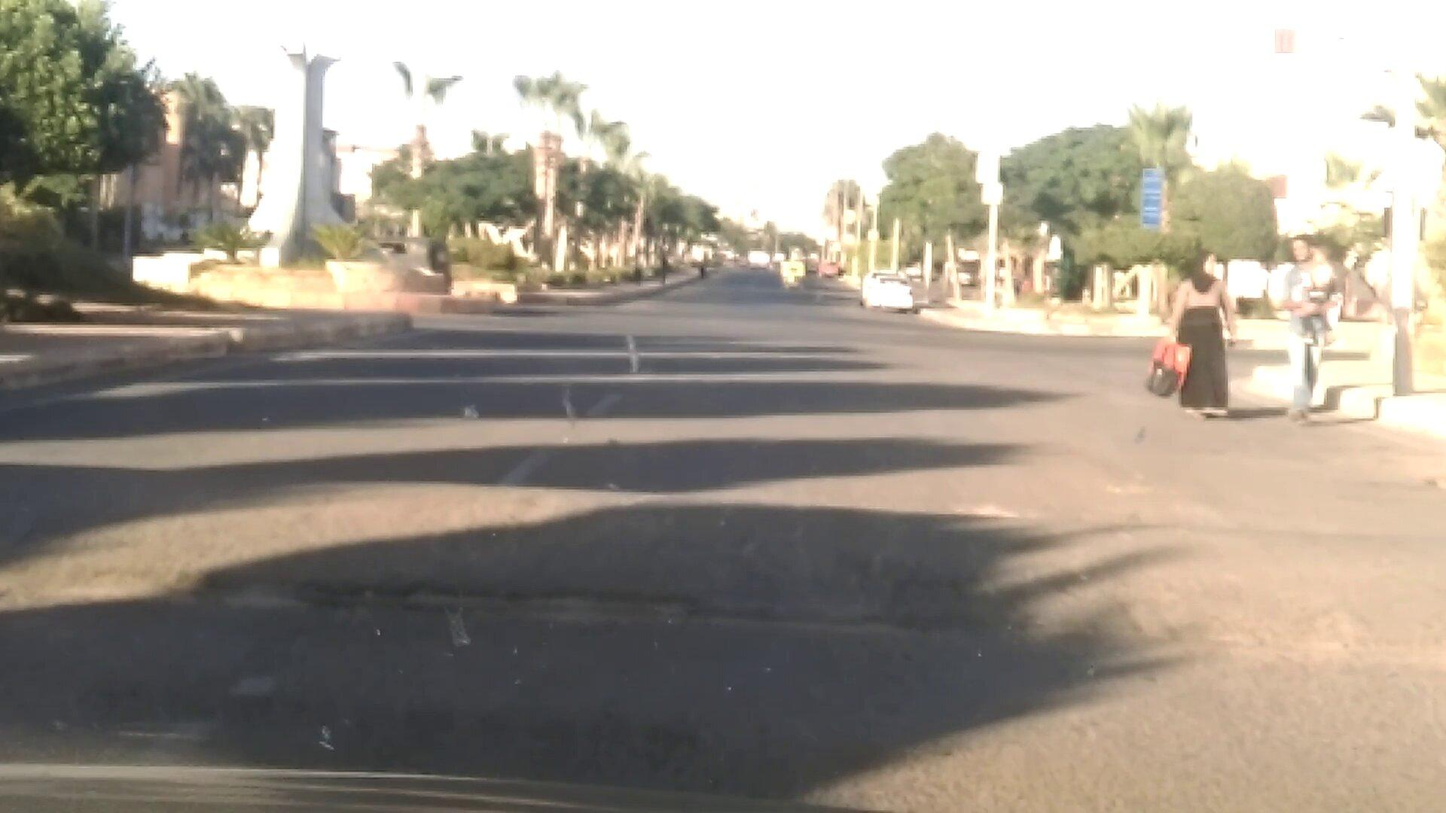Bump: (0, 460, 1445, 659)
